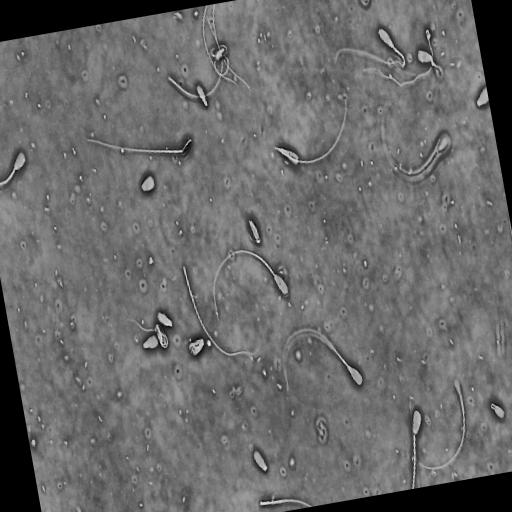coiled-tail: (136, 322, 168, 348), (247, 219, 260, 243), (189, 339, 203, 355), (158, 325, 166, 345)
folded-tail: (275, 95, 346, 161), (334, 45, 405, 66)
loose-head: (252, 447, 268, 473), (155, 306, 173, 329), (195, 81, 208, 109), (140, 332, 159, 351), (140, 171, 155, 193), (416, 47, 433, 64), (490, 401, 505, 420)
loose-tail: (180, 259, 259, 359), (408, 374, 467, 473), (167, 15, 223, 102), (211, 3, 251, 91), (200, 5, 237, 86), (258, 494, 313, 507)
normal: (272, 89, 349, 167), (280, 327, 365, 397), (211, 247, 290, 322), (332, 23, 407, 68), (82, 134, 195, 158), (126, 316, 169, 350), (0, 145, 28, 187), (409, 406, 423, 488), (246, 215, 262, 245), (187, 335, 205, 357)
